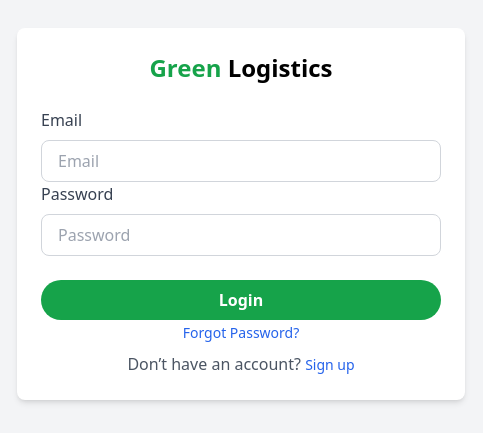
Test case: Loginpage › Should display error on incorrect username and password
This screenshot has width=483, height=433.
In the field with placeholder "Email": (241, 161) 41,140 -> 441,182, type "hello world"
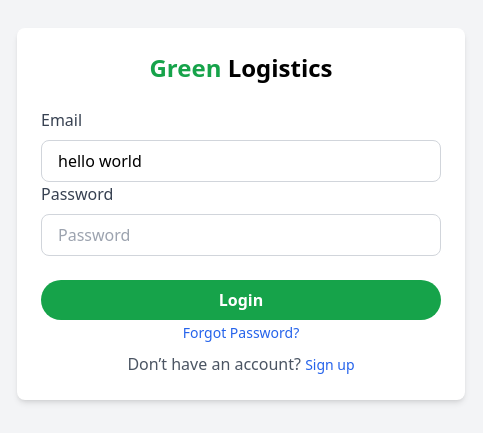
In the password field with placeholder "Password": (241, 235) 41,214 -> 441,256, type "incorrect"
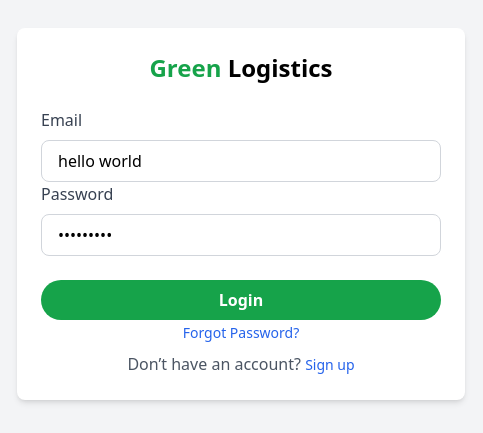
Click the button "Login": (241, 300) 41,280 -> 441,320
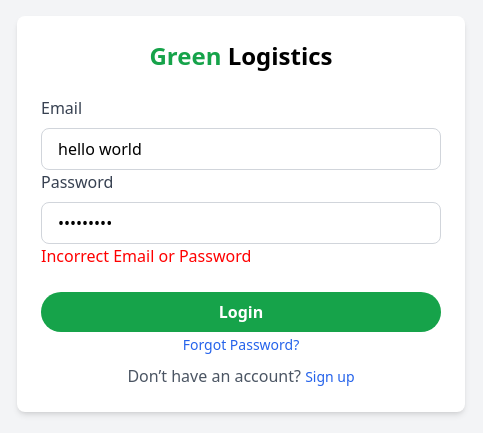
Now the text "Incorrect Email or Password" is shown, box 41,245 -> 251,267
